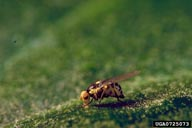Trifoli: (72, 68, 145, 114)
